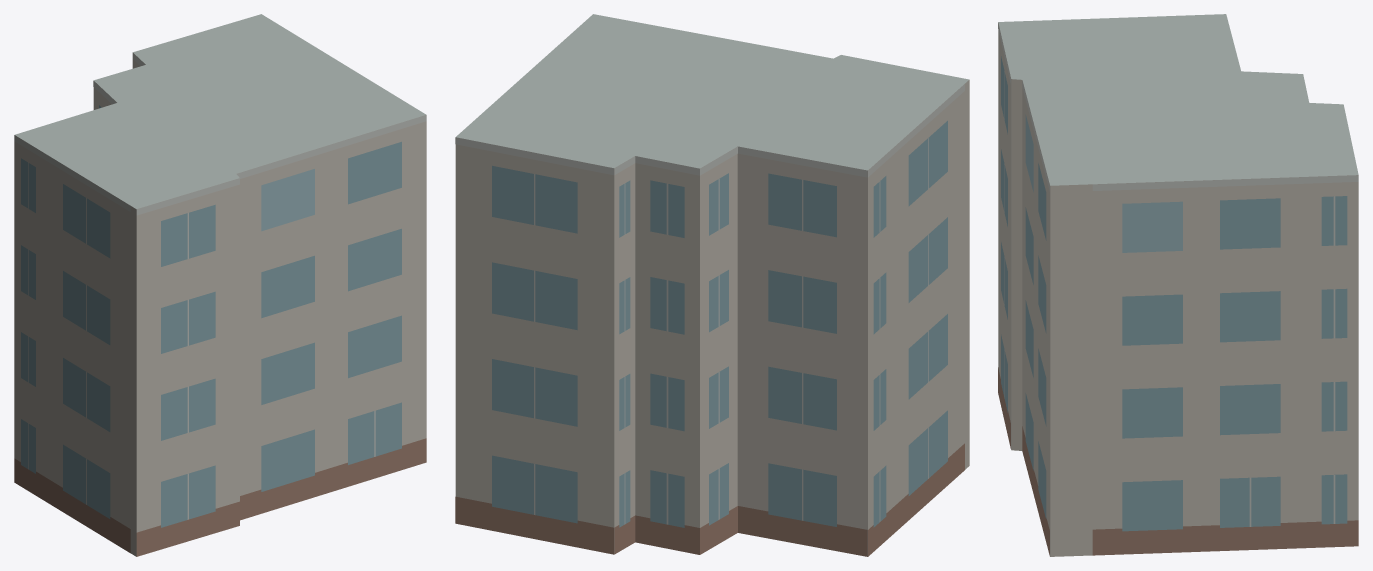
The model's file is survey-upis-32981111.glb.
3 renders of one model, left to right at view 1: azimuth 30°, elevation 25°; view 2: azimuth 150°, elevation 25°; view 3: azimuth 270°, elevation 25°, orthographic. The views are drawn at different scales.
Visible parts, largest first — view 1: survey-upis-32981111.tmp; view 2: survey-upis-32981111.tmp; view 3: survey-upis-32981111.tmp.
Part boxes in pixels (box(x1,y1,x2,y2)): survey-upis-32981111.tmp: box(14, 14, 426, 556); survey-upis-32981111.tmp: box(455, 14, 969, 556); survey-upis-32981111.tmp: box(998, 14, 1358, 556).
Size of the model in its own units: 13.1 by 13.2 by 11.63.
